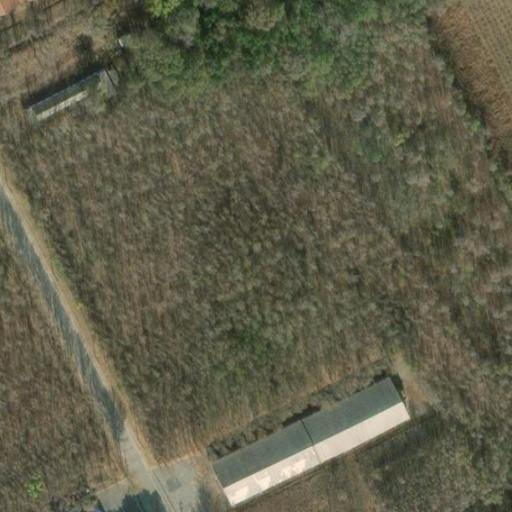building: (209, 377, 401, 503), (21, 65, 102, 117)
